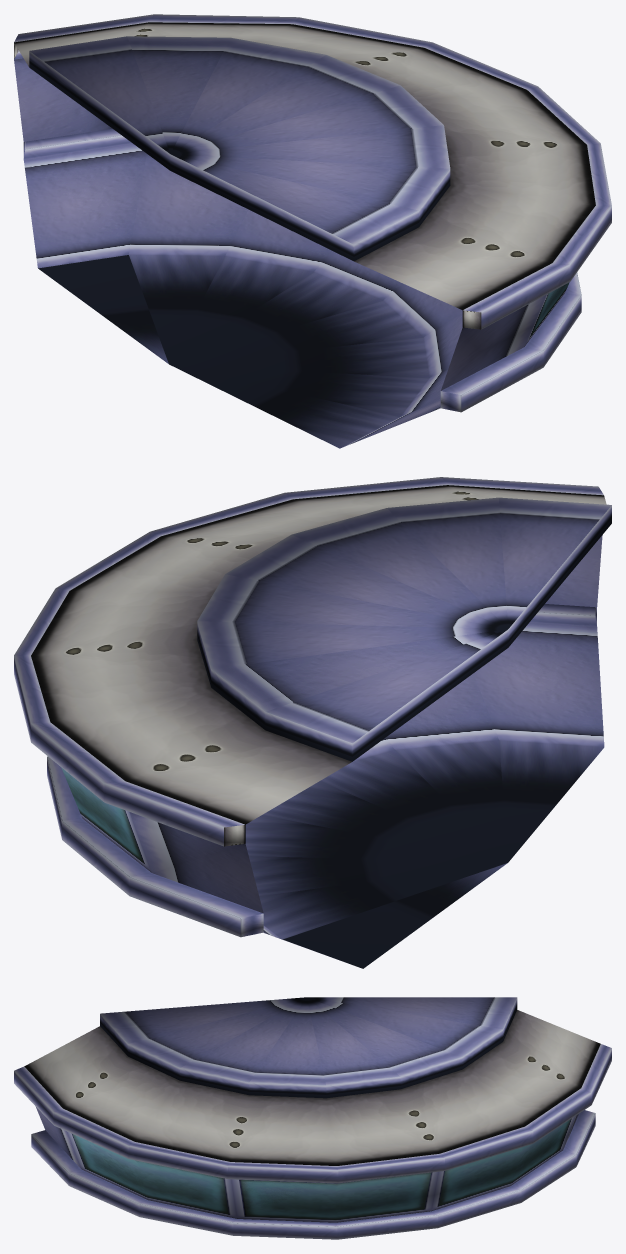
The model's file is bunker_dungeon_external_area_east.DAE.
The picture shows the model from 3 angles, top to bottom: view 1: azimuth 30°, elevation 25°; view 2: azimuth 150°, elevation 25°; view 3: azimuth 270°, elevation 25°; orthographic projection. The views are drawn at different scales.
Visible parts, largest first — view 1: Cylinder01; view 2: Cylinder01; view 3: Cylinder01.
Part boxes in pixels (x1,y1,x2,y2): Cylinder01: (14, 14, 611, 448); Cylinder01: (14, 477, 611, 968); Cylinder01: (14, 997, 611, 1239).
Bounding box in the file's own units: 86.45 × 44.7 × 154.
